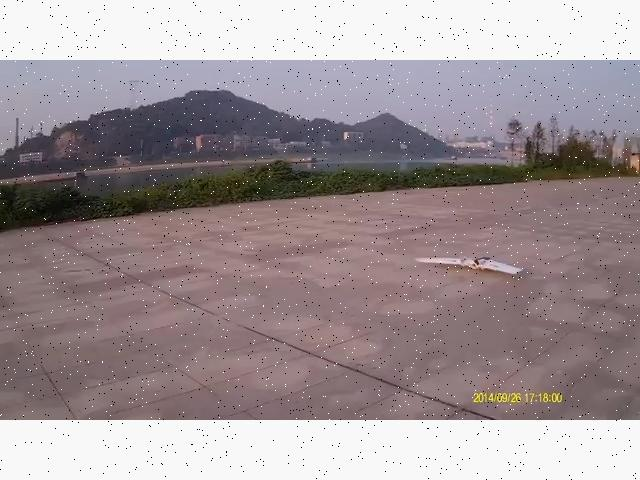Anti-Drone: (408, 245, 524, 286)
